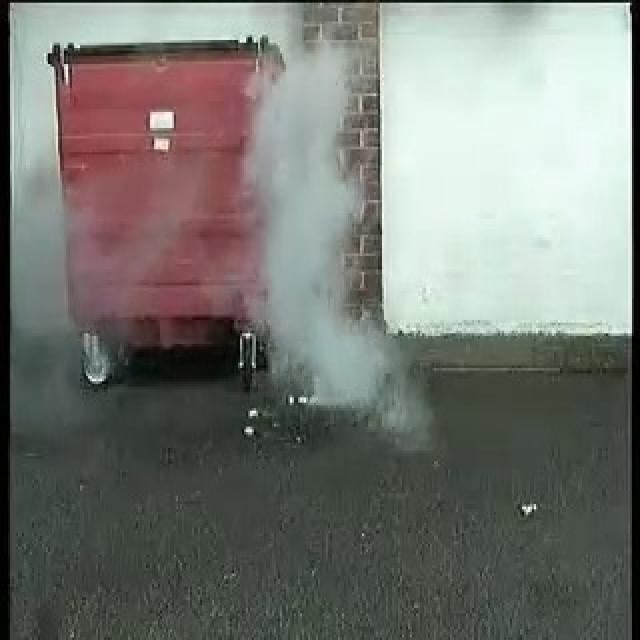smoke: (247, 51, 394, 417)
